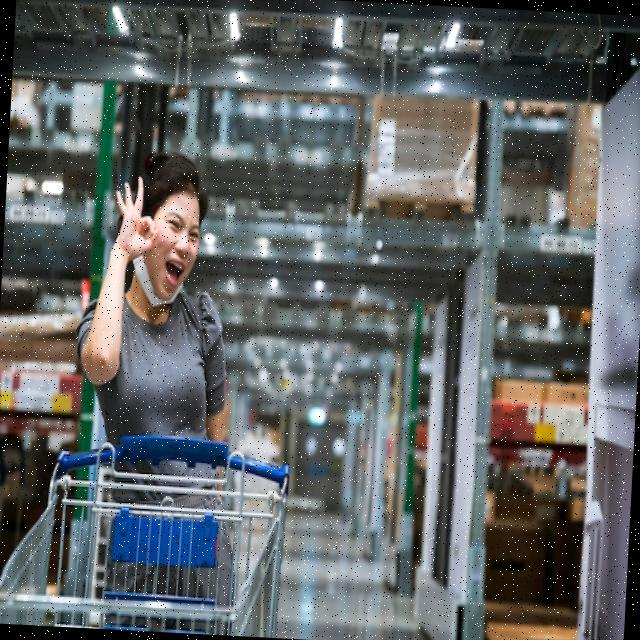Person: (61, 144, 258, 636)
